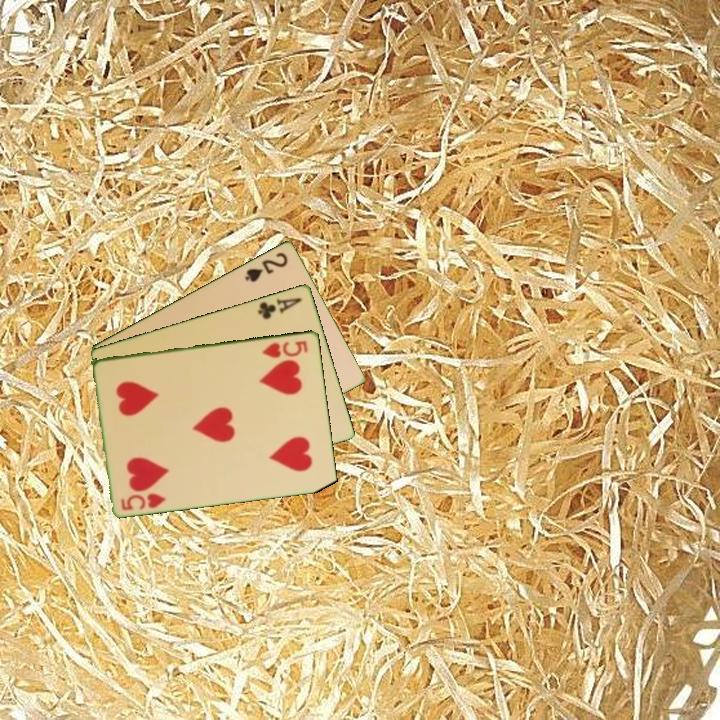2s: (241, 248, 291, 285)
5h: (118, 489, 169, 513), (259, 337, 311, 360)
Ac: (254, 294, 305, 322)
